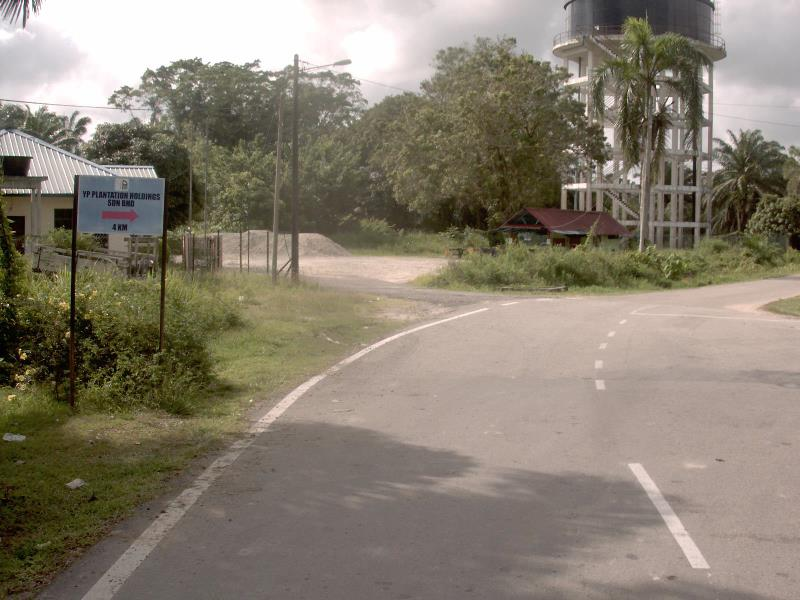ads_sign: (63, 162, 176, 242)
